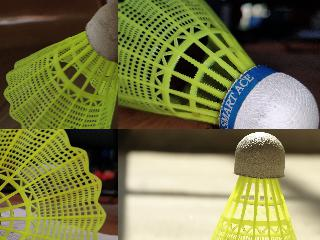shuttlecock: (118, 0, 320, 128), (3, 1, 117, 128), (195, 131, 310, 239), (0, 129, 106, 239)
